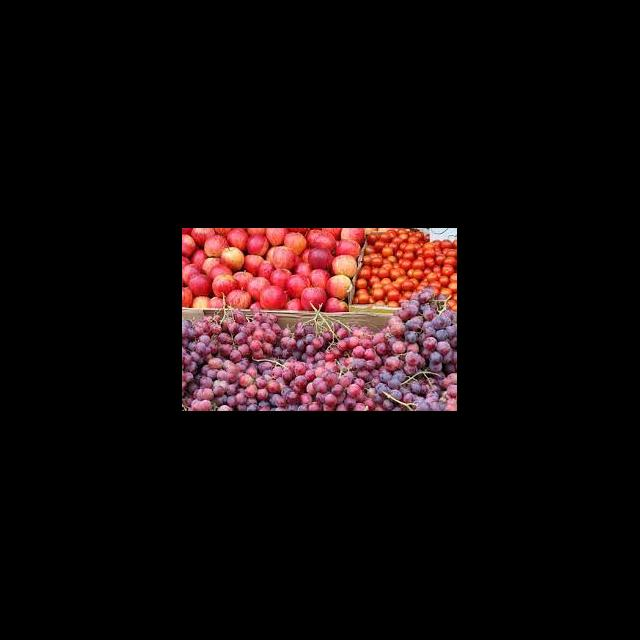grape: (182, 288, 456, 410)
